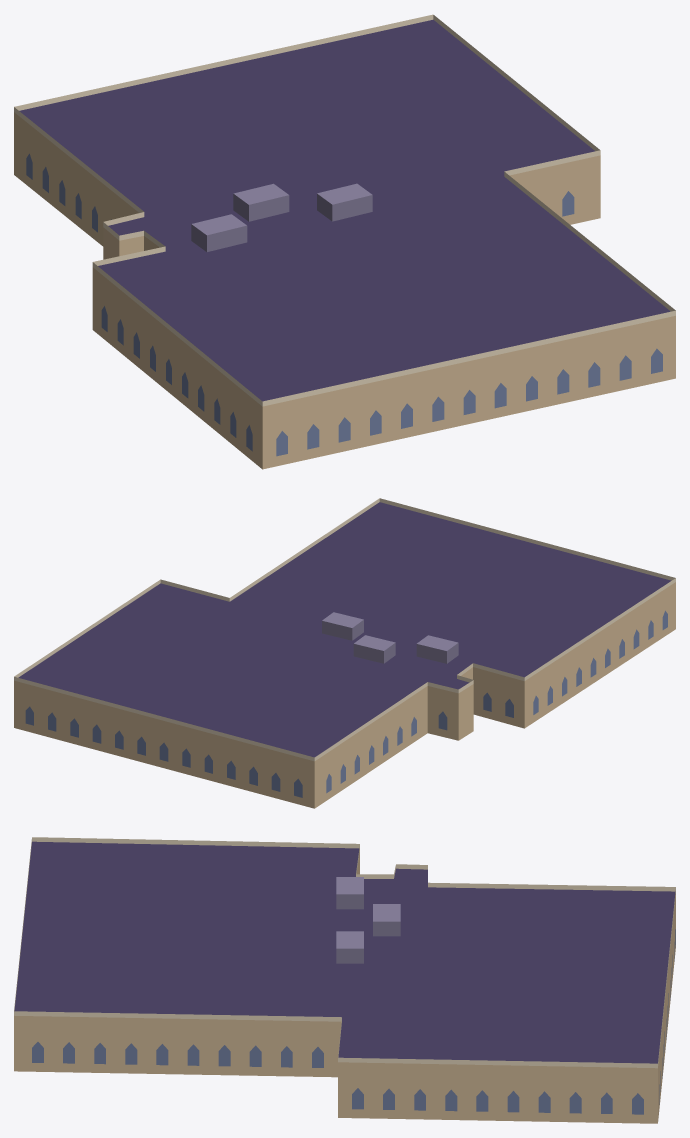
The model's file is b-079-day.glb.
The picture shows the model from 3 angles, top to bottom: view 1: azimuth 30°, elevation 25°; view 2: azimuth 150°, elevation 25°; view 3: azimuth 270°, elevation 25°; orthographic projection. The views are drawn at different scales.
Parts seen in each view (by area): view 1: campus/b-079-day-0; view 2: campus/b-079-day-0; view 3: campus/b-079-day-0.
Part boxes in pixels (box(x1,y1,x2,y2)): campus/b-079-day-0: box(14, 14, 675, 469); campus/b-079-day-0: box(14, 498, 675, 808); campus/b-079-day-0: box(14, 837, 675, 1123).
Size of the model in its own units: 58.51 by 8.5 by 72.28.
